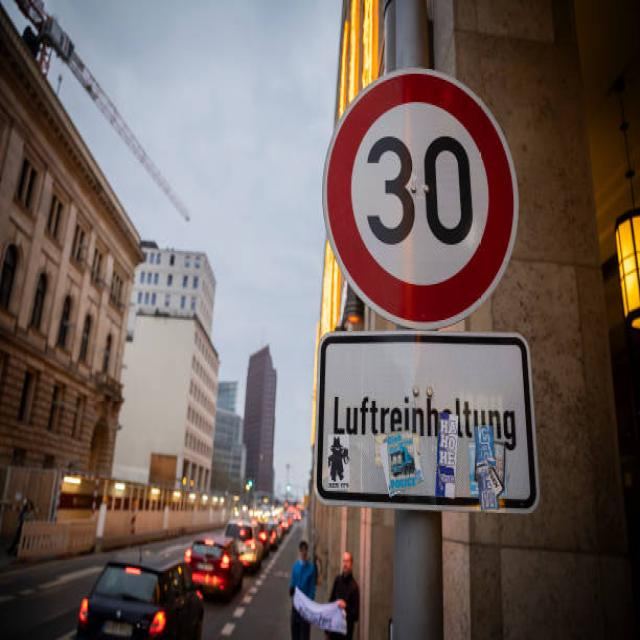Speed limit 30: (321, 66, 522, 331)
